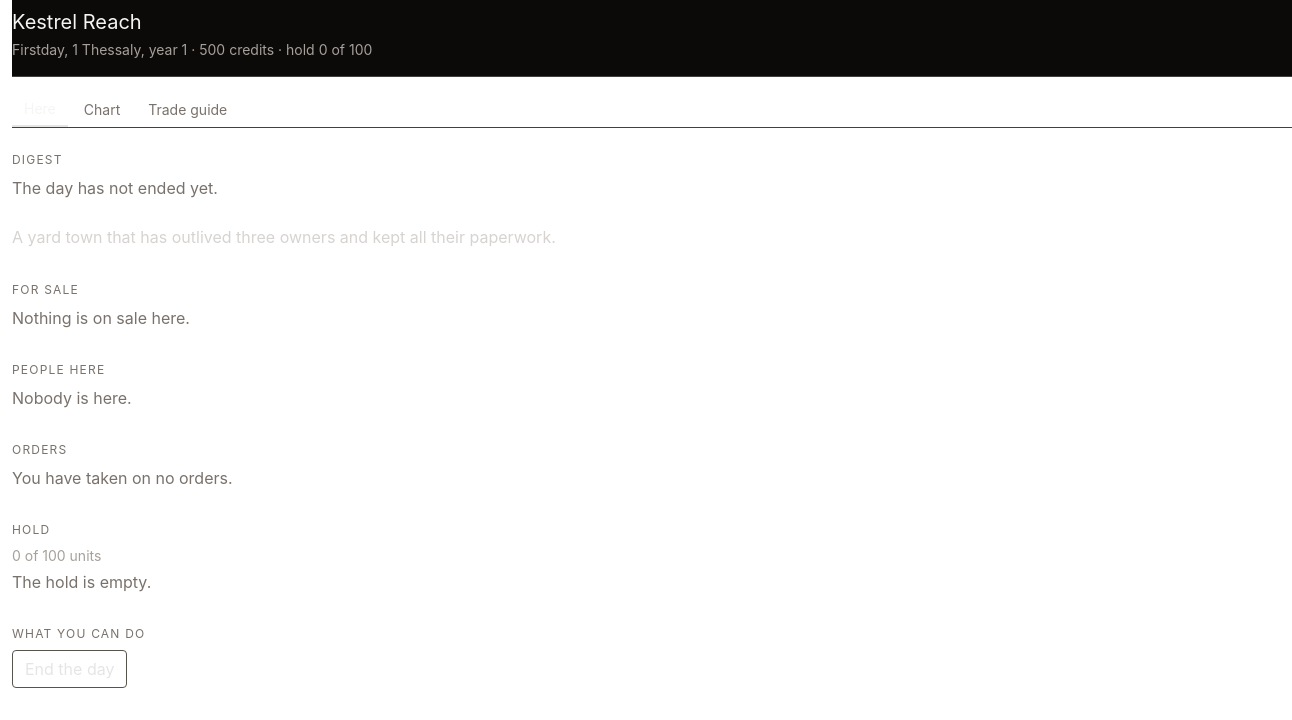
Scenario: the chart on the page › shows each lane with its days, its fare and where it leads
The image size is (1292, 720).
Click the tab "Chart" at (102, 110), box left=72, top=93, right=132, bottom=127
(page scrolled)
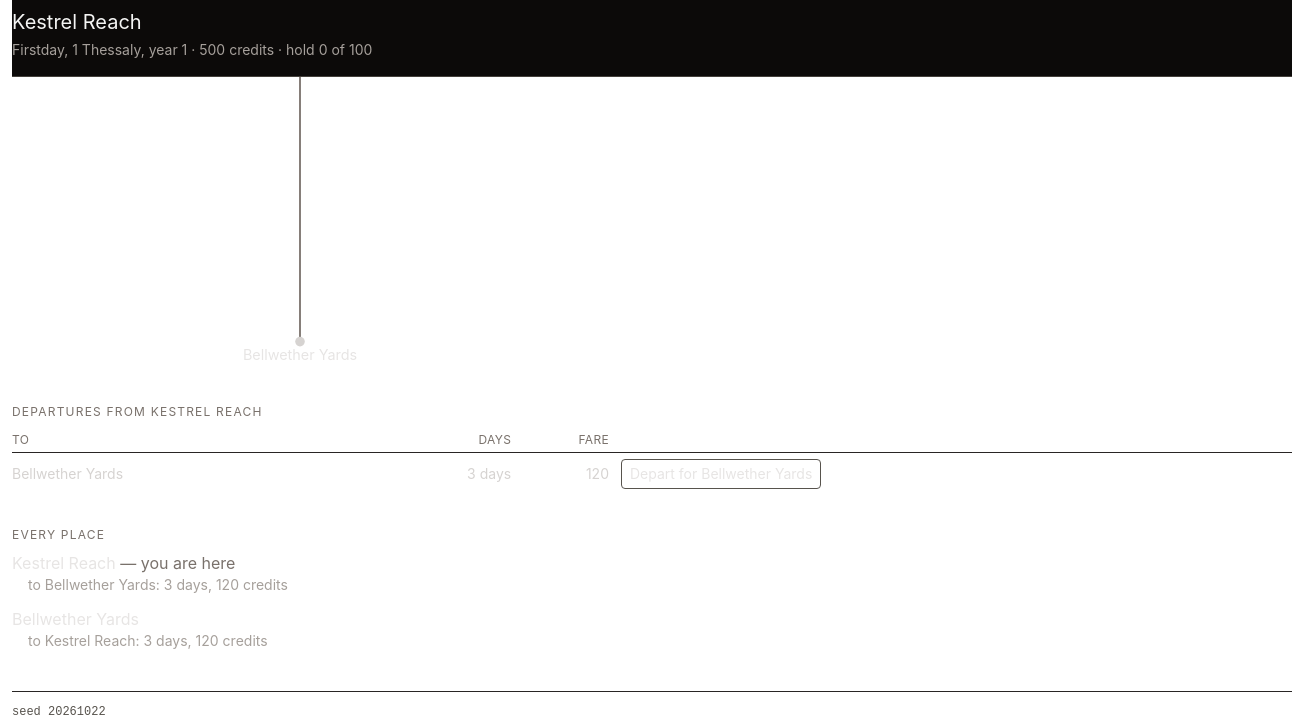
Result: the row "Bellwether Yards 3 days 120 Depart for Bellwether Yards" is shown at left=12, top=452, right=1291, bottom=495
